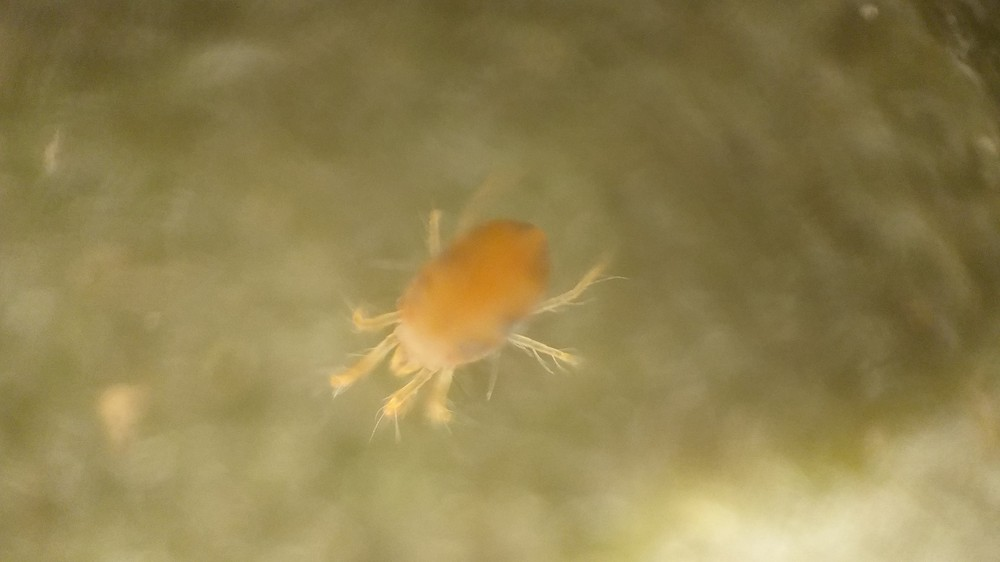Aracnido Rojo: (308, 152, 648, 447)
